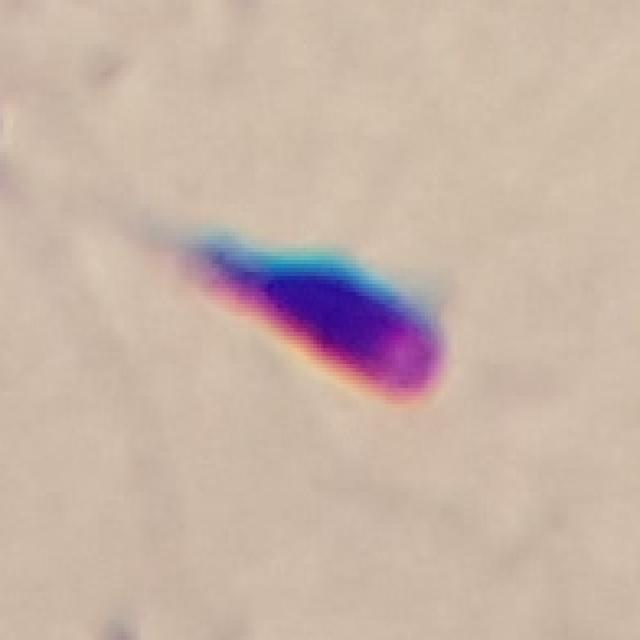abnormal sperm: (113, 211, 446, 407)
